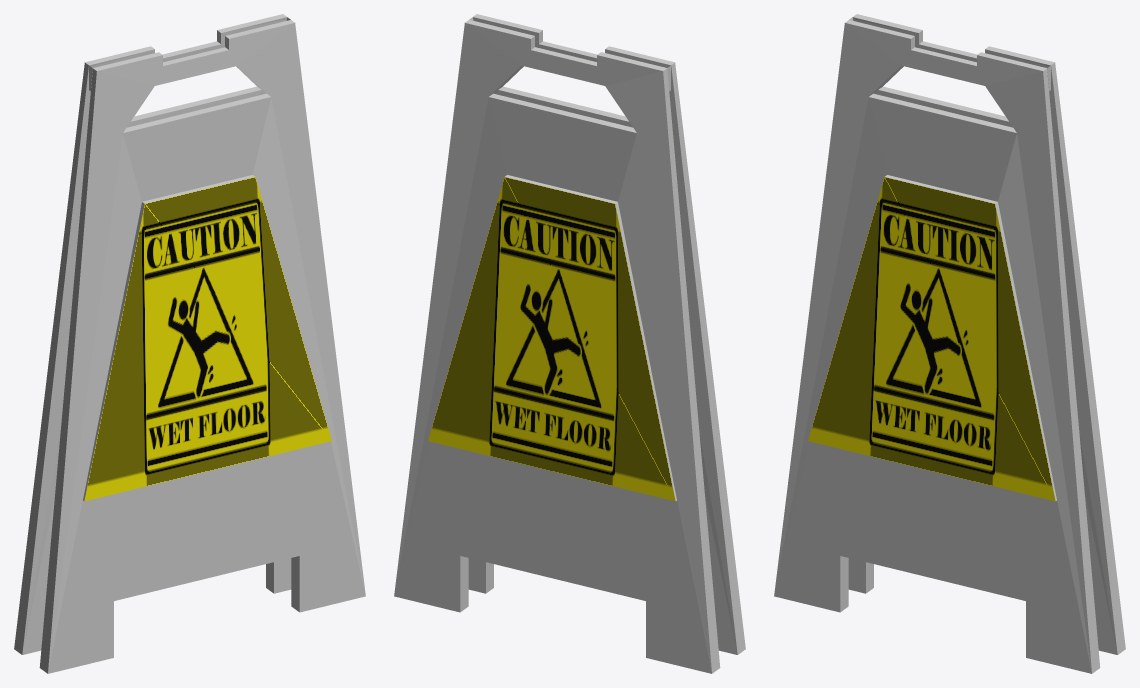
Rendered from WetCautionSign.fbx.
3 views of the same model, side by side, from view 1: azimuth 30°, elevation 25°; view 2: azimuth 150°, elevation 25°; view 3: azimuth 330°, elevation 25° (orthographic).
Parts seen in each view (by area): view 1: Cube; view 2: Cube; view 3: Cube.
Part boxes in pixels (x1=…): Cube: x1=14, y1=14, x2=365, y2=673; Cube: x1=394, y1=14, x2=745, y2=673; Cube: x1=774, y1=14, x2=1125, y2=673.
Bounding box in the file's own units: 62.66 × 109 × 12.42.
